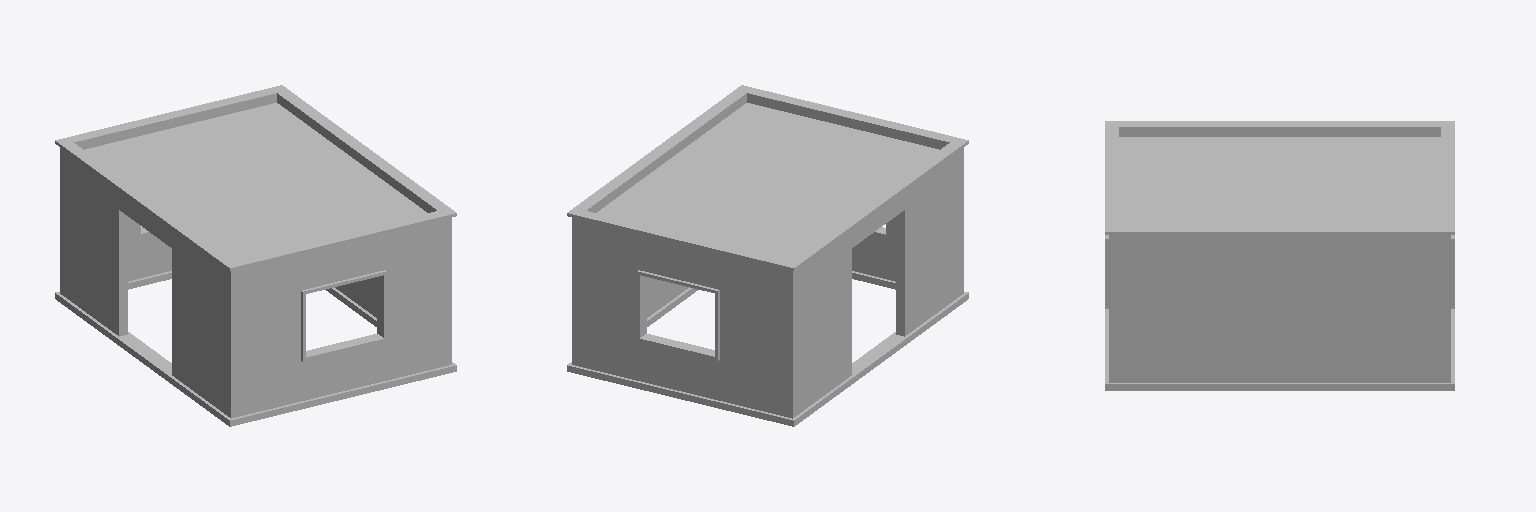
The model's file is officers lounge.obj.
3 views of the same model, side by side, from view 1: azimuth 30°, elevation 25°; view 2: azimuth 150°, elevation 25°; view 3: azimuth 270°, elevation 25° (orthographic).
Parts seen in each view (by area): view 1: object 1; view 2: object 1; view 3: object 1.
Boxes of the visible parts, x1=… form: object 1: x1=55, y1=85, x2=456, y2=426; object 1: x1=567, y1=85, x2=968, y2=426; object 1: x1=1105, y1=121, x2=1454, y2=390.
Bounding box in the file's own units: 7.5 × 5 × 10.